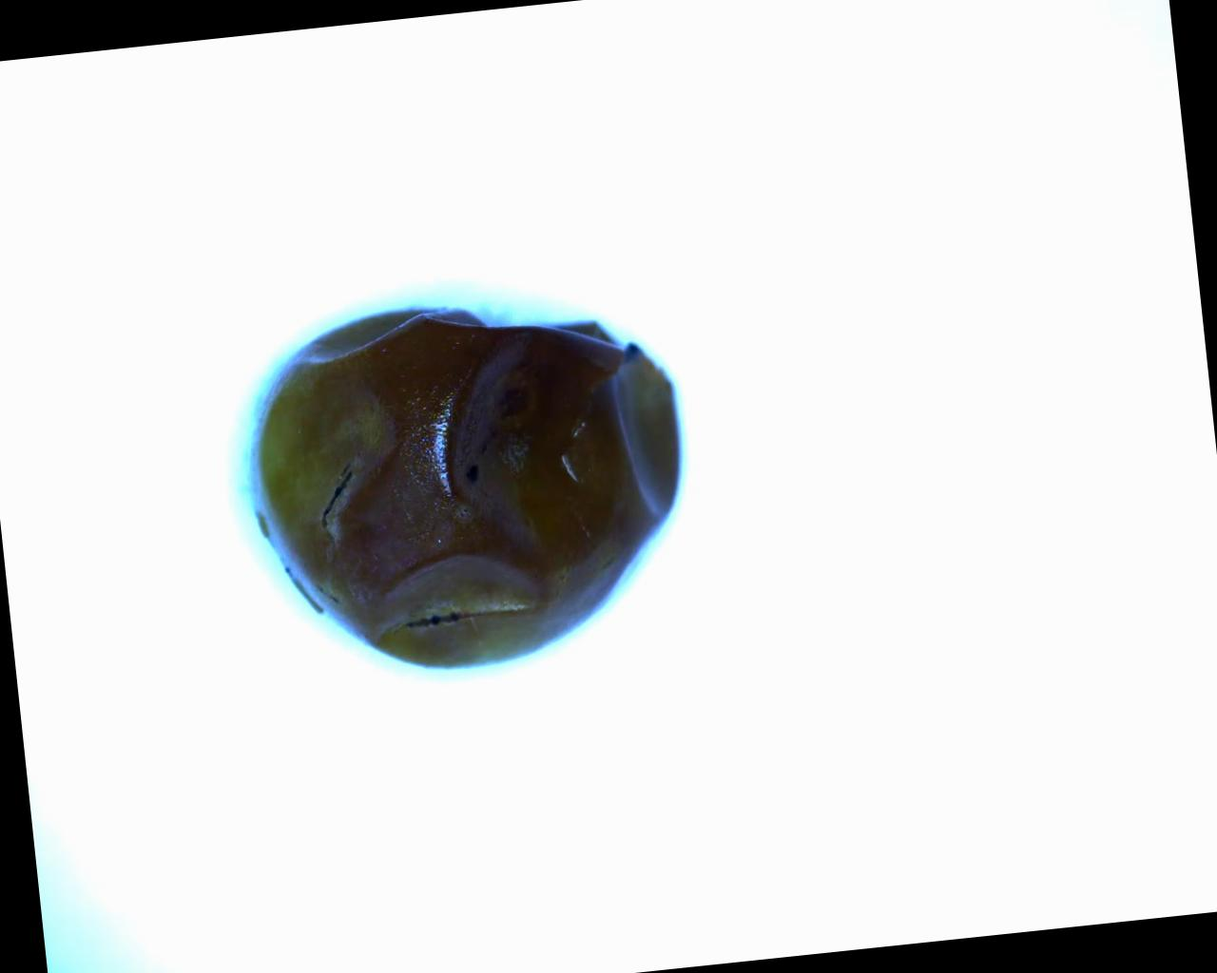Grape Rotten: (228, 278, 705, 689)
